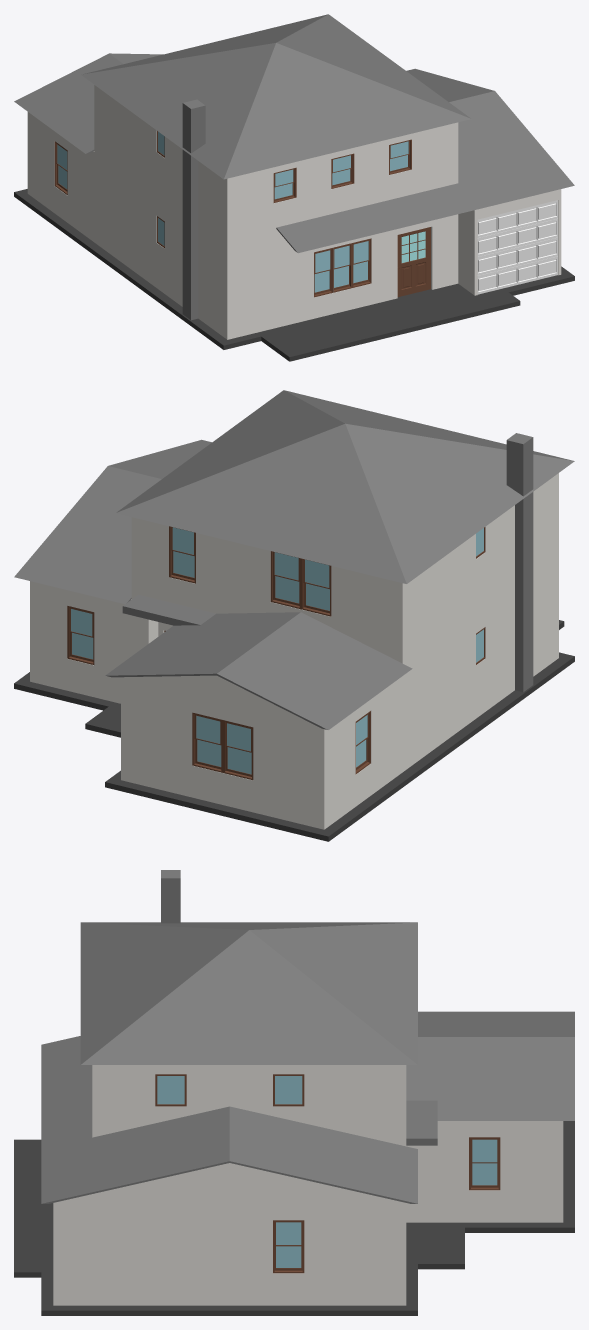
File: task-20-x.obj
The picture shows the model from 3 angles, top to bottom: view 1: azimuth 30°, elevation 25°; view 2: azimuth 150°, elevation 25°; view 3: azimuth 270°, elevation 25°; orthographic projection. The views are drawn at different scales.
Visible parts, largest first — view 1: wall, roof_4, ground_base, roof_0, garage_door_frame_0, roof_3, roof_1, chimney_0, door_frame_1, door_glass_1, window_glass_3, window_glass_15 (+4 smaller); view 2: wall, roof_4, roof_1, roof_0, ground_base, chimney_0, roof_2, window_glass_8, window_glass_6, window_glass_18, window_glass_17, window_glass_14 (+5 smaller); view 3: wall, roof_4, roof_0, roof_1, ground_base, roof_3, roof_2, window_glass_13, window_glass_12, chimney_0, window_glass_11, window_glass_10 (+2 smaller).
Boxes of the visible parts, box(x1,y1,x2,y2) form: wall: box(27, 85, 561, 339); roof_4: box(81, 14, 471, 179); ground_base: box(14, 189, 574, 361); roof_0: box(406, 68, 574, 208); garage_door_frame_0: box(477, 200, 557, 294); roof_3: box(276, 183, 479, 253); roof_1: box(14, 53, 162, 153); chimney_0: box(182, 99, 205, 320); door_frame_1: box(397, 227, 430, 296); door_glass_1: box(401, 231, 425, 262); window_glass_3: box(314, 250, 330, 292); window_glass_15: box(334, 245, 349, 287); wall: box(30, 473, 558, 829); roof_4: box(116, 390, 574, 583); roof_1: box(105, 612, 412, 729); roof_0: box(14, 439, 211, 603); ground_base: box(14, 620, 574, 841); chimney_0: box(506, 433, 533, 692); roof_2: box(122, 594, 215, 625); window_glass_8: box(274, 552, 299, 603); window_glass_6: box(196, 715, 221, 766); window_glass_18: box(305, 559, 329, 610); window_glass_17: box(227, 723, 251, 774); window_glass_14: box(71, 609, 93, 659); wall: box(53, 1065, 563, 1305); roof_4: box(80, 922, 417, 1064); roof_0: box(41, 1106, 417, 1203); roof_1: box(406, 1011, 574, 1120); ground_base: box(14, 1121, 574, 1315); roof_3: box(41, 1036, 92, 1148); roof_2: box(406, 1100, 437, 1145); window_glass_13: box(472, 1139, 497, 1185); window_glass_12: box(276, 1222, 301, 1267); chimney_0: box(161, 870, 180, 923); window_glass_11: box(157, 1076, 184, 1104); window_glass_10: box(275, 1076, 302, 1104).
Bounding box in the file's own units: 11.6 × 7.45 × 14.3.
